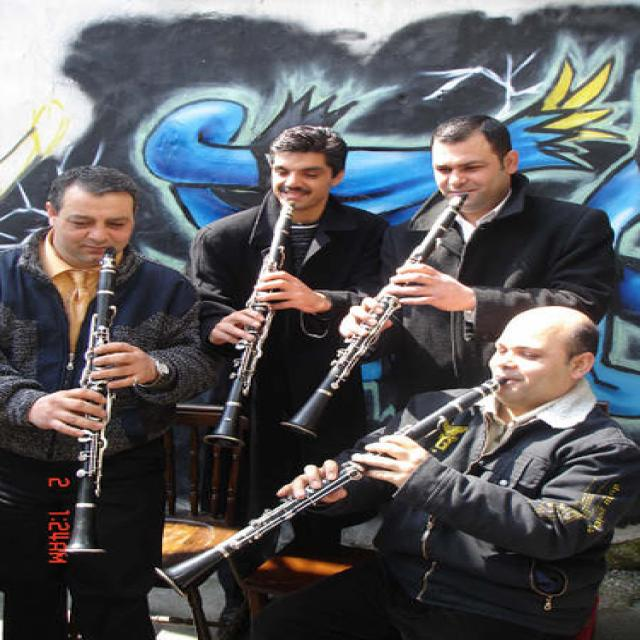clarinet: (146, 372, 514, 601), (280, 187, 468, 442), (54, 240, 134, 562), (204, 196, 298, 453)
